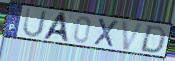0: (72, 16, 92, 45)
A: (41, 12, 71, 44)
D: (138, 24, 168, 55)
U: (22, 7, 48, 39)
V: (121, 20, 146, 52)
X: (92, 17, 120, 49)
